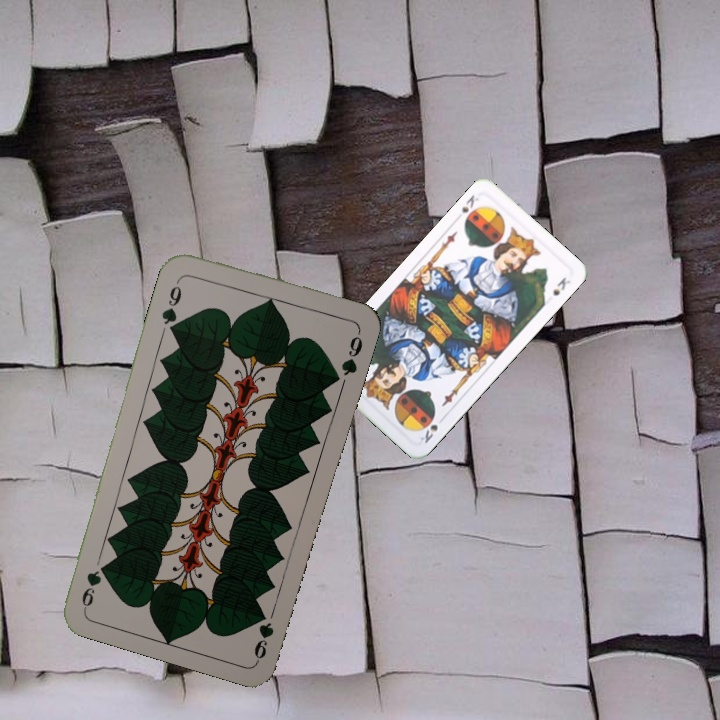G9: (157, 273, 184, 333), (250, 606, 277, 663)
SK: (416, 412, 448, 446), (457, 190, 481, 215)
